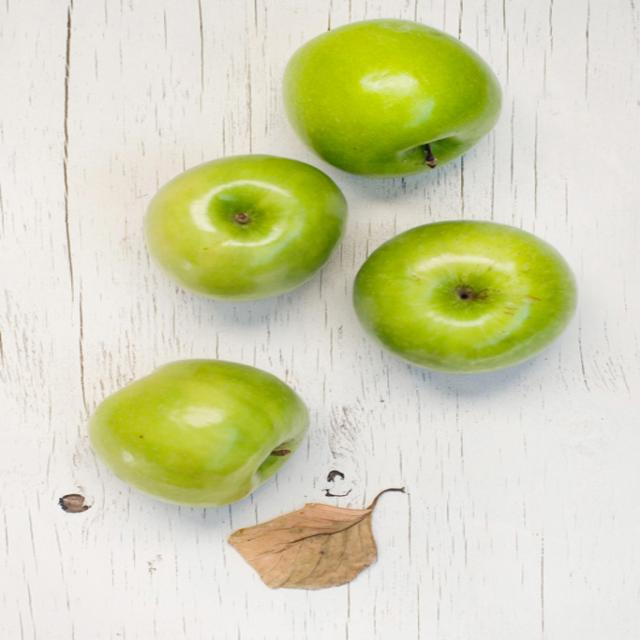Apple: (285, 21, 501, 177), (82, 361, 303, 510), (354, 225, 573, 372), (138, 157, 340, 303)
